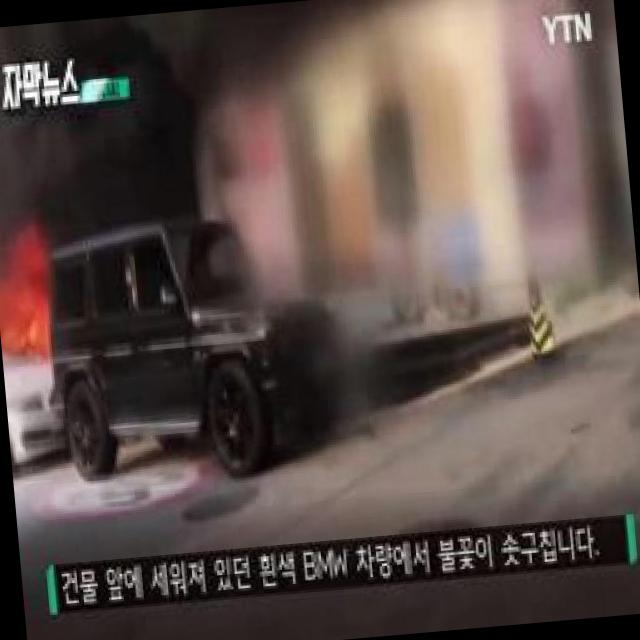Fire: (0, 254, 53, 363)
